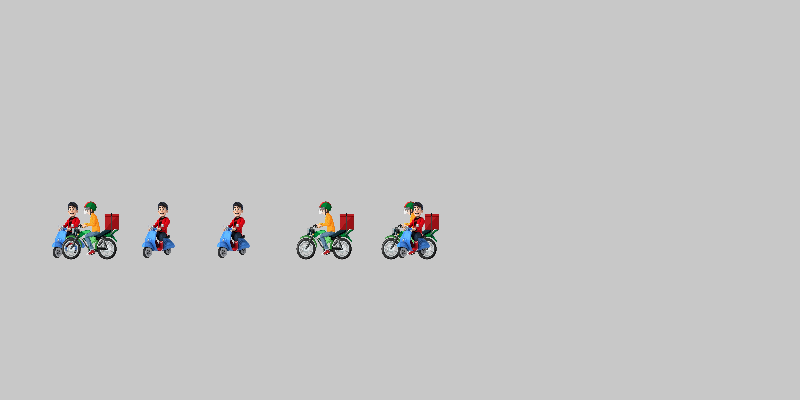helmet: (60, 200, 120, 260), (295, 200, 355, 260), (380, 200, 440, 260)
no_helmet: (40, 200, 100, 260), (130, 200, 190, 260), (205, 200, 265, 260), (385, 200, 445, 260)
